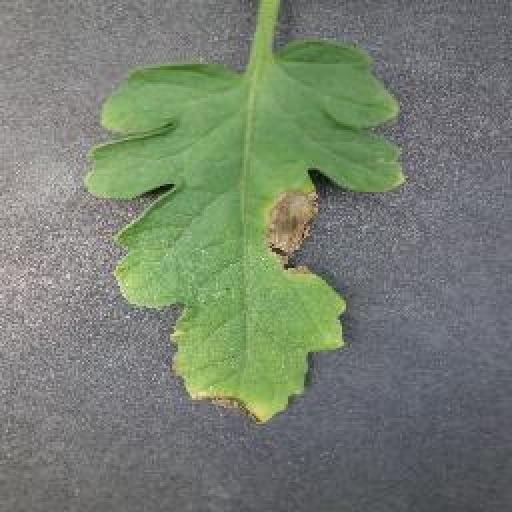Late Blight: (79, 39, 409, 429)
